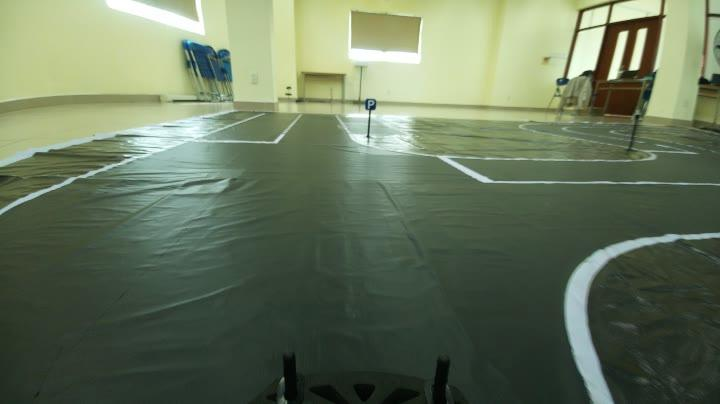parking: (360, 96, 378, 112)
